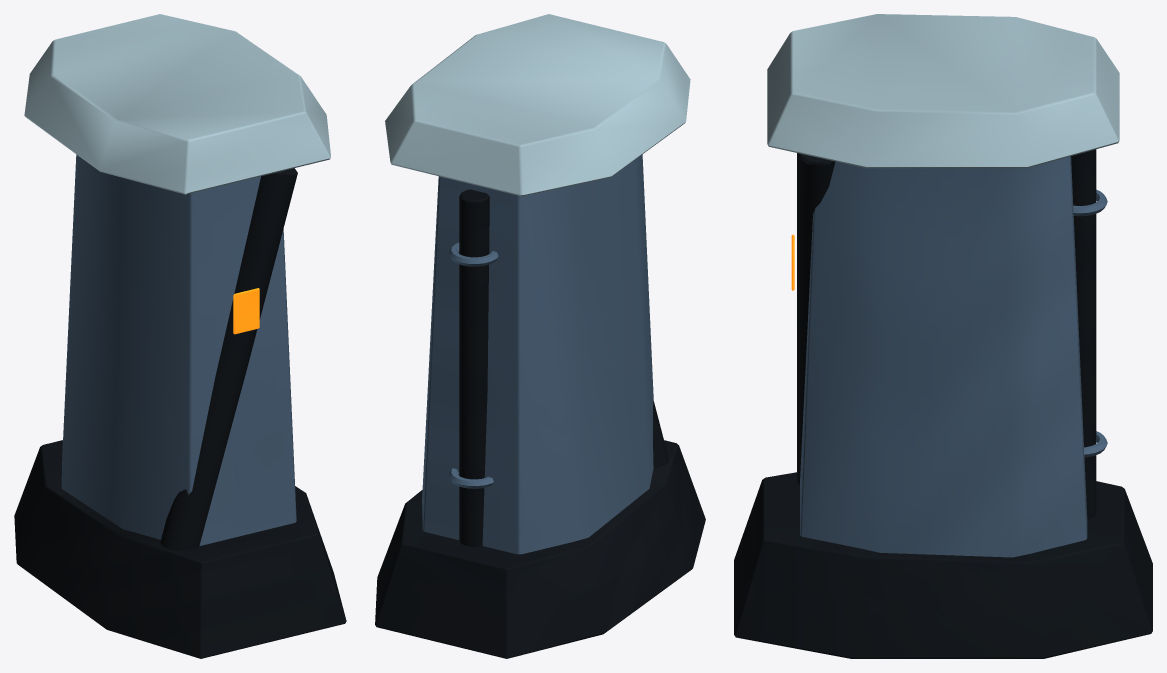
The model's file is Containment_Buttress.fbx.
3 views of the same model, side by side, from view 1: azimuth 30°, elevation 25°; view 2: azimuth 150°, elevation 25°; view 3: azimuth 270°, elevation 25° (orthographic). The views are drawn at different scales.
Parts seen in each view (by area): view 1: Containment_Buttress; view 2: Containment_Buttress; view 3: Containment_Buttress.
Boxes of the visible parts, x1,y1,x2,y2 form: Containment_Buttress: (14,14,346,658); Containment_Buttress: (375,14,705,658); Containment_Buttress: (734,14,1152,658).
Size of the model in its own units: 1.82 by 3.79 by 2.67.
